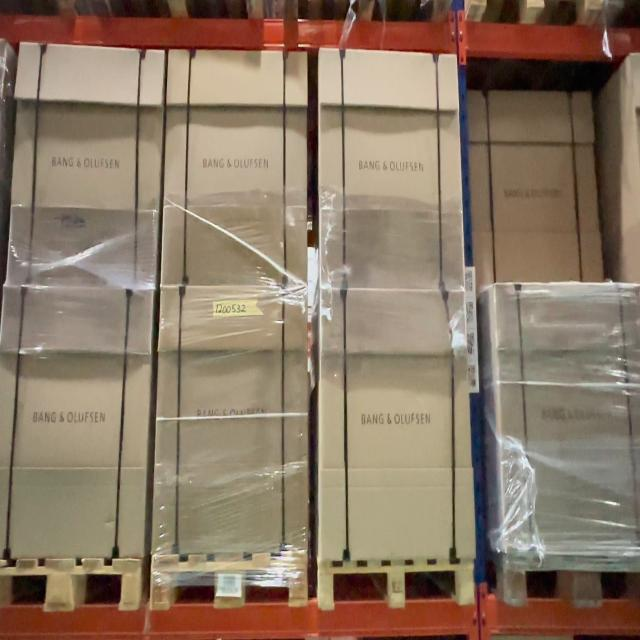box: (161, 295, 303, 552), (323, 293, 465, 550), (320, 53, 460, 283), (169, 54, 308, 282), (21, 51, 158, 281), (476, 101, 603, 285)
